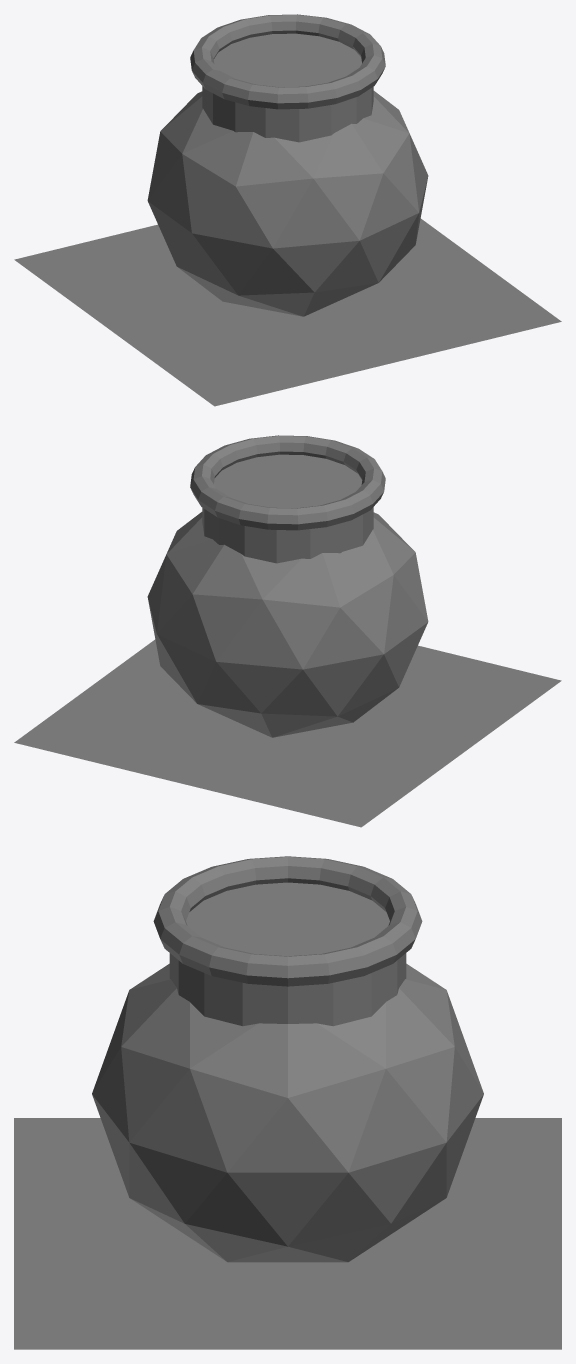
The model's file is pot-small.glb.
The picture shows the model from 3 angles, top to bottom: view 1: azimuth 30°, elevation 25°; view 2: azimuth 150°, elevation 25°; view 3: azimuth 270°, elevation 25°; orthographic projection. The views are drawn at different scales.
Visible parts, largest first — view 1: ContactShadow, belly, neck, rim; view 2: ContactShadow, belly, neck, rim; view 3: ContactShadow, belly, neck, rim.
Boxes of the visible parts, left/top/right/bottom form: ContactShadow: left=14, top=218, right=561, bottom=406; belly: left=147, top=91, right=428, bottom=316; neck: left=202, top=33, right=373, bottom=142; rim: left=190, top=14, right=385, bottom=109; ContactShadow: left=14, top=639, right=561, bottom=827; belly: left=147, top=512, right=428, bottom=737; neck: left=202, top=454, right=373, bottom=563; rim: left=190, top=435, right=385, bottom=530; ContactShadow: left=14, top=1118, right=561, bottom=1349; belly: left=92, top=963, right=483, bottom=1262; neck: left=169, top=882, right=406, bottom=1026; rim: left=153, top=856, right=422, bottom=986.
Bounding box in the file's own units: 0.589 × 0.4075 × 0.589.
3 materials, 2 textured.
